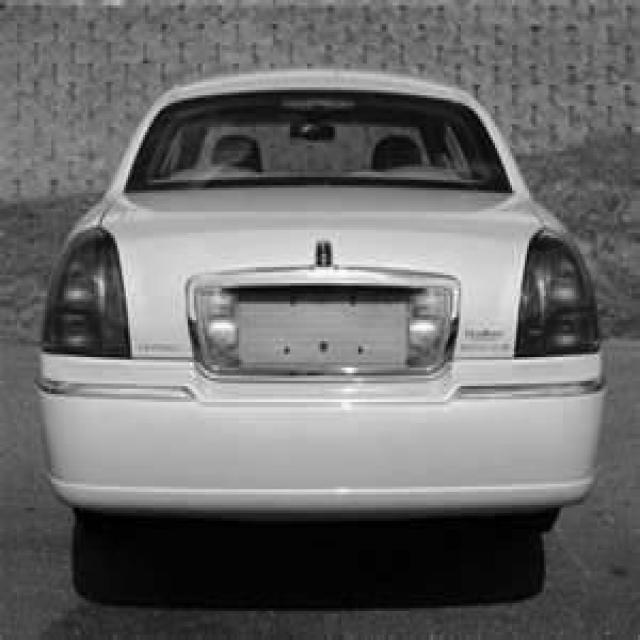car: (34, 69, 609, 512)
